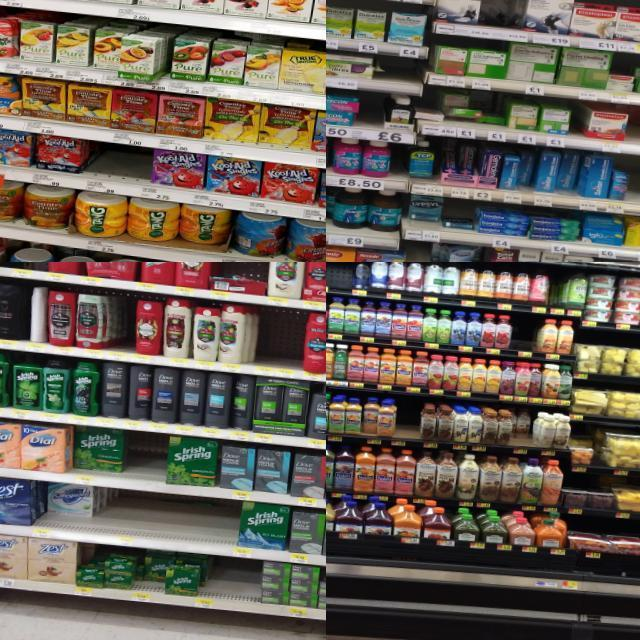empty: (114, 488, 236, 556), (209, 556, 263, 612), (95, 144, 152, 195), (124, 429, 168, 492), (277, 310, 304, 379), (253, 308, 279, 376), (378, 55, 417, 94), (112, 295, 135, 361), (394, 398, 421, 447), (356, 92, 382, 140), (512, 315, 534, 358), (390, 143, 409, 191), (625, 159, 640, 213), (326, 262, 352, 293), (10, 262, 45, 279), (403, 241, 431, 262)
